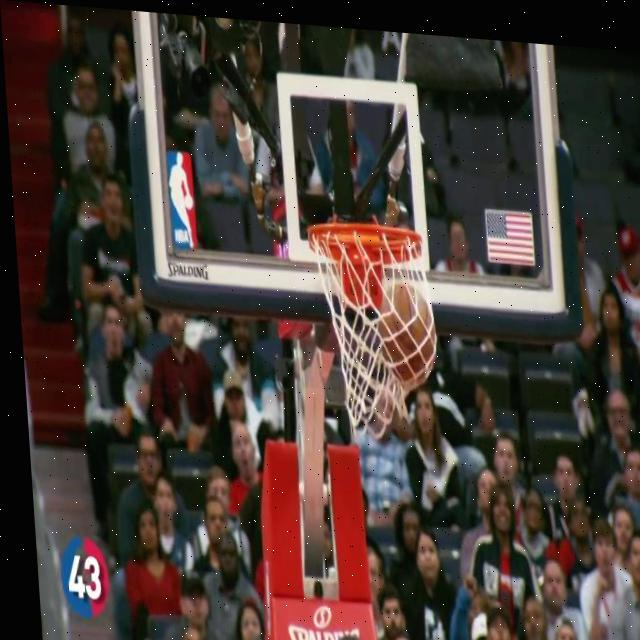Goal: (372, 277, 434, 382)
